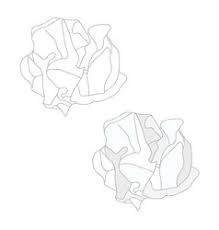crumpled paper: (17, 18, 129, 105), (95, 112, 200, 204)
